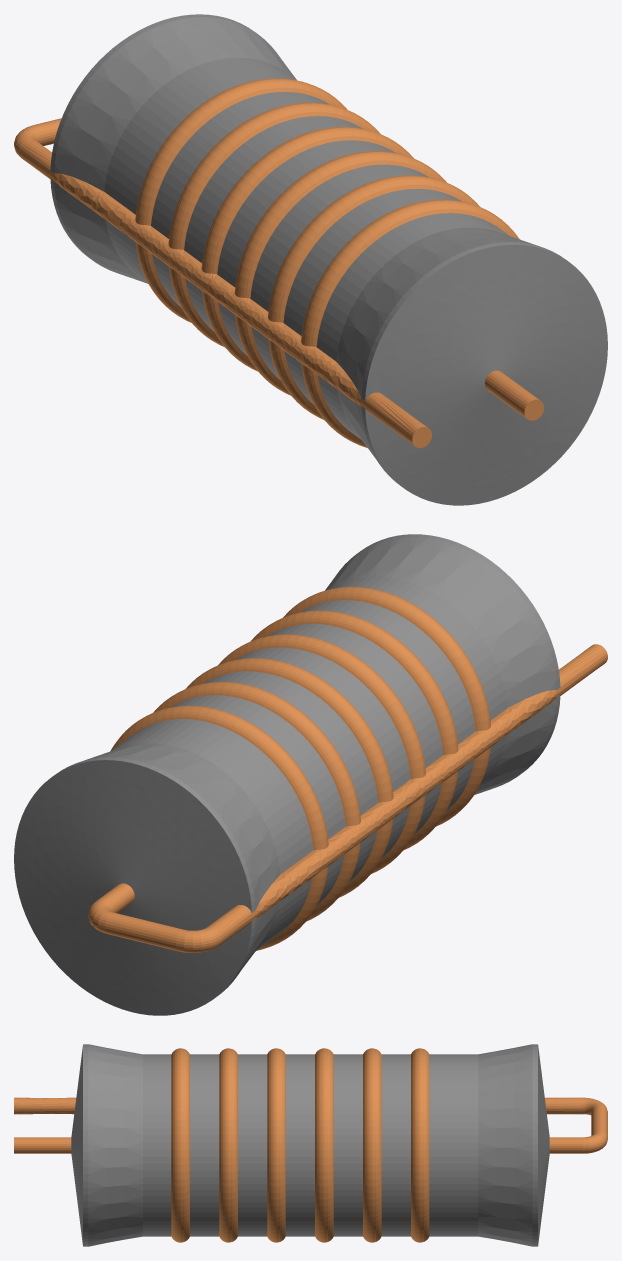
Rendered from L_Axial_L26.0mm_D11.0mm_P5.08mm_Vertical_Fastron_77A.glb.
3 renders of one model, top to bottom at view 1: azimuth 30°, elevation 25°; view 2: azimuth 150°, elevation 25°; view 3: azimuth 270°, elevation 25°, orthographic. The views are drawn at different scales.
Parts seen in each view (by area): view 1: Shape_IndexedFaceSet.002, Shape_IndexedFaceSet.007, Shape_IndexedFaceSet.003, Shape_IndexedFaceSet.008, Shape_IndexedFaceSet.021, Shape_IndexedFaceSet.020, Shape_IndexedFaceSet.019, Shape_IndexedFaceSet.011, Shape_IndexedFaceSet.013, Shape_IndexedFaceSet.017, Shape_IndexedFaceSet.009, Shape_IndexedFaceSet.015 (+8 smaller); view 2: Shape_IndexedFaceSet.005, Shape_IndexedFaceSet.021, Shape_IndexedFaceSet.003, Shape_IndexedFaceSet.008, Shape_IndexedFaceSet.007, Shape_IndexedFaceSet.009, Shape_IndexedFaceSet.011, Shape_IndexedFaceSet.013, Shape_IndexedFaceSet.017, Shape_IndexedFaceSet.019, Shape_IndexedFaceSet.015, Shape_IndexedFaceSet.012 (+10 smaller); view 3: Shape_IndexedFaceSet.021, Shape_IndexedFaceSet.007, Shape_IndexedFaceSet.008, Shape_IndexedFaceSet.010, Shape_IndexedFaceSet.012, Shape_IndexedFaceSet.014, Shape_IndexedFaceSet.016, Shape_IndexedFaceSet.018, Shape_IndexedFaceSet.020, Shape_IndexedFaceSet.013, Shape_IndexedFaceSet.015, Shape_IndexedFaceSet.009 (+12 smaller).
Part boxes in pixels (x1,y1,x2,y2): Shape_IndexedFaceSet.002: [365, 244, 607, 505]; Shape_IndexedFaceSet.007: [54, 17, 296, 283]; Shape_IndexedFaceSet.003: [18, 138, 427, 445]; Shape_IndexedFaceSet.008: [104, 57, 296, 283]; Shape_IndexedFaceSet.021: [336, 227, 537, 461]; Shape_IndexedFaceSet.020: [316, 213, 509, 439]; Shape_IndexedFaceSet.019: [301, 199, 519, 447]; Shape_IndexedFaceSet.011: [168, 102, 380, 347]; Shape_IndexedFaceSet.013: [201, 126, 413, 371]; Shape_IndexedFaceSet.017: [268, 175, 479, 419]; Shape_IndexedFaceSet.009: [135, 78, 347, 322]; Shape_IndexedFaceSet.015: [234, 151, 446, 395]; Shape_IndexedFaceSet.005: [14, 760, 251, 1015]; Shape_IndexedFaceSet.021: [325, 537, 556, 794]; Shape_IndexedFaceSet.003: [207, 644, 607, 944]; Shape_IndexedFaceSet.008: [111, 719, 313, 950]; Shape_IndexedFaceSet.007: [84, 743, 280, 971]; Shape_IndexedFaceSet.009: [110, 705, 328, 950]; Shape_IndexedFaceSet.011: [153, 682, 360, 921]; Shape_IndexedFaceSet.013: [186, 658, 393, 897]; Shape_IndexedFaceSet.017: [250, 610, 458, 849]; Shape_IndexedFaceSet.019: [283, 587, 490, 826]; Shape_IndexedFaceSet.015: [218, 634, 425, 873]; Shape_IndexedFaceSet.012: [203, 671, 378, 882]; Shape_IndexedFaceSet.021: [88, 1044, 142, 1246]; Shape_IndexedFaceSet.007: [478, 1044, 532, 1246]; Shape_IndexedFaceSet.008: [429, 1054, 478, 1236]; Shape_IndexedFaceSet.010: [381, 1054, 410, 1236]; Shape_IndexedFaceSet.012: [333, 1054, 362, 1236]; Shape_IndexedFaceSet.014: [285, 1054, 314, 1236]; Shape_IndexedFaceSet.016: [238, 1054, 267, 1236]; Shape_IndexedFaceSet.018: [190, 1054, 219, 1236]; Shape_IndexedFaceSet.020: [143, 1054, 171, 1236]; Shape_IndexedFaceSet.013: [315, 1048, 333, 1242]; Shape_IndexedFaceSet.015: [267, 1048, 285, 1242]; Shape_IndexedFaceSet.009: [411, 1048, 429, 1242].
Bounding box in the file's own units: 4.34 × 4.33 × 12.7.
